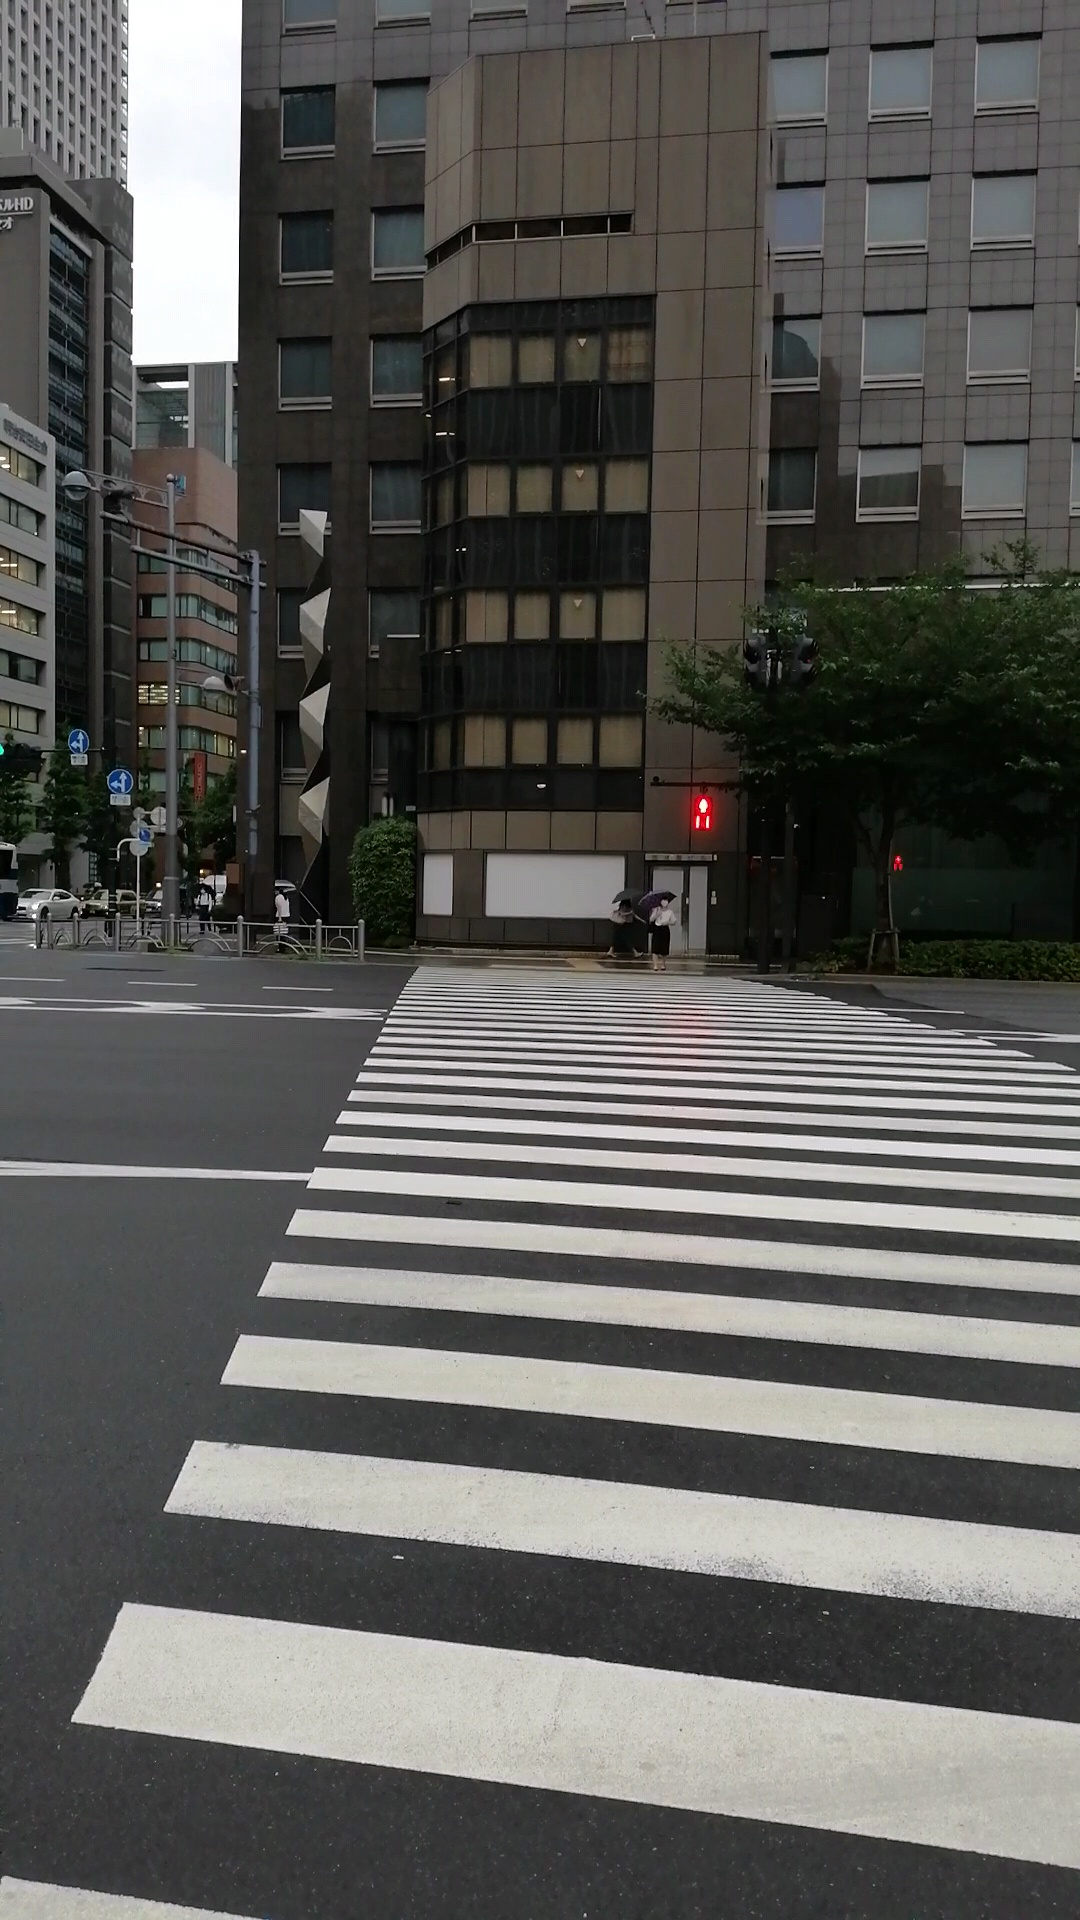red: (692, 793, 713, 833)
